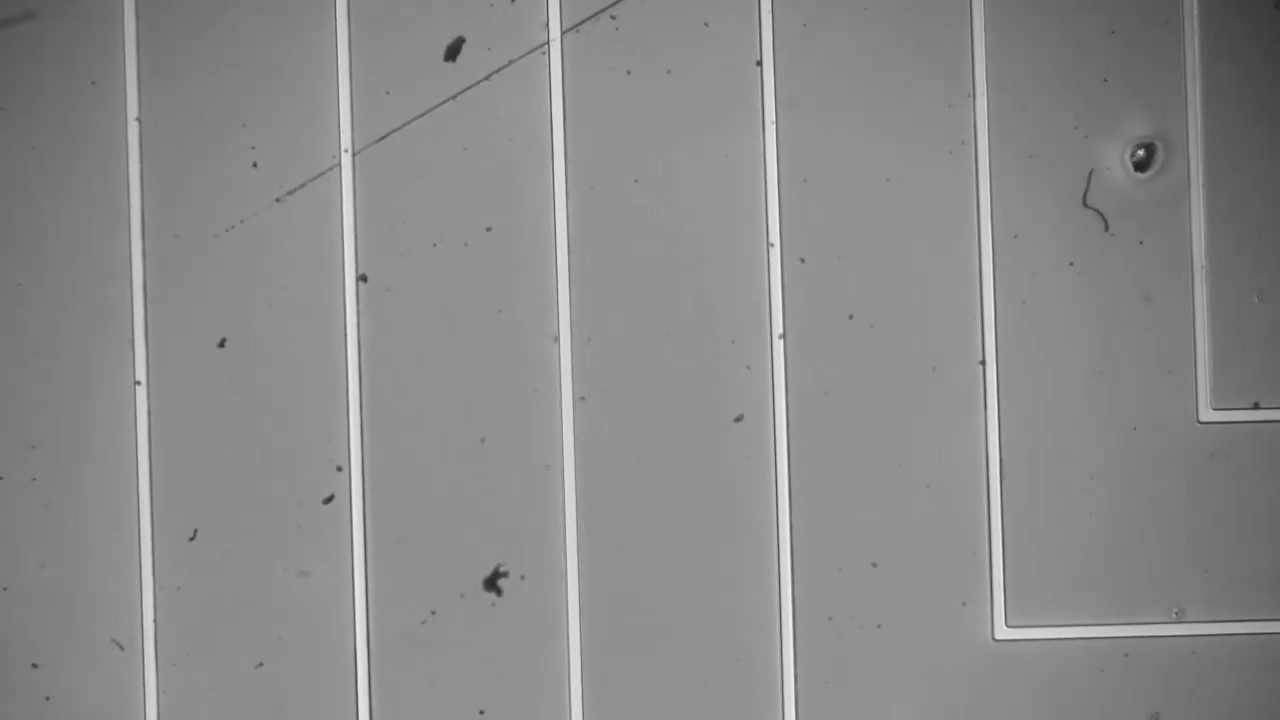scratch: (237, 1, 637, 224)
